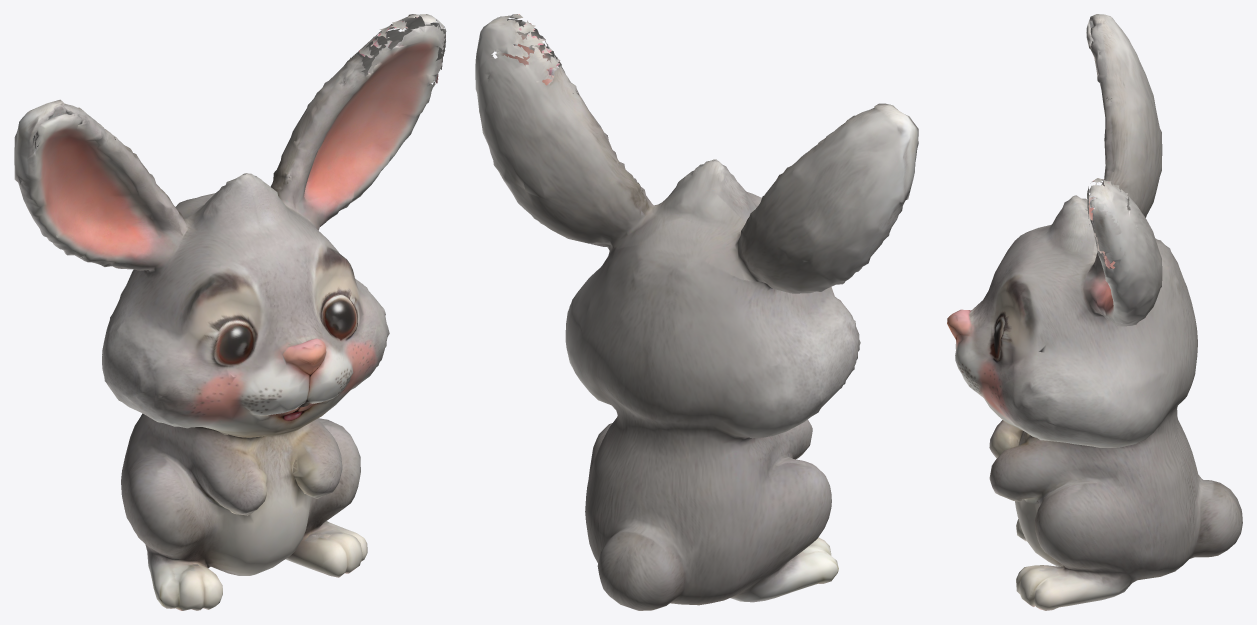
Rendered from hare1.glb.
The picture shows the model from 3 angles, left to right: view 1: azimuth 30°, elevation 25°; view 2: azimuth 150°, elevation 25°; view 3: azimuth 270°, elevation 25°; orthographic projection. The views are drawn at different scales.
Bounding box in the file's own units: 1.7 × 1.97 × 1.11.
1 material, 1 textured.
